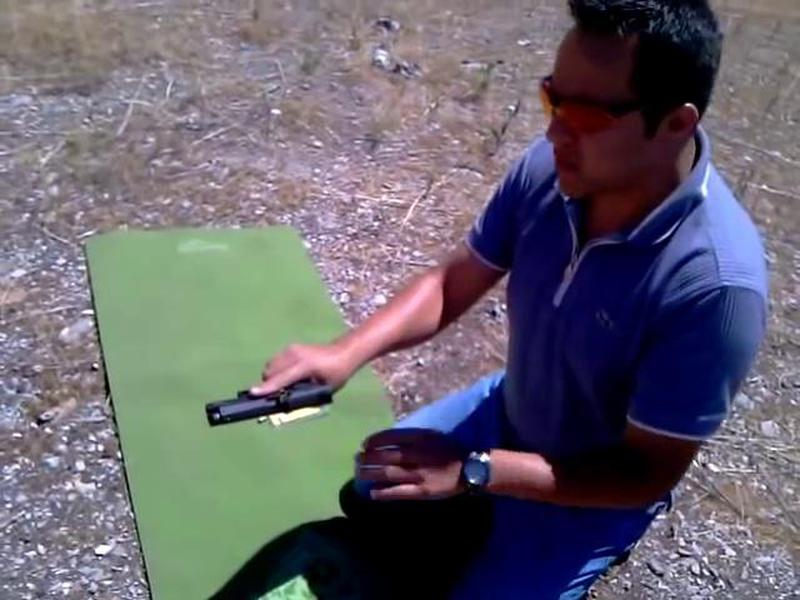Pistola: (200, 340, 364, 436)
